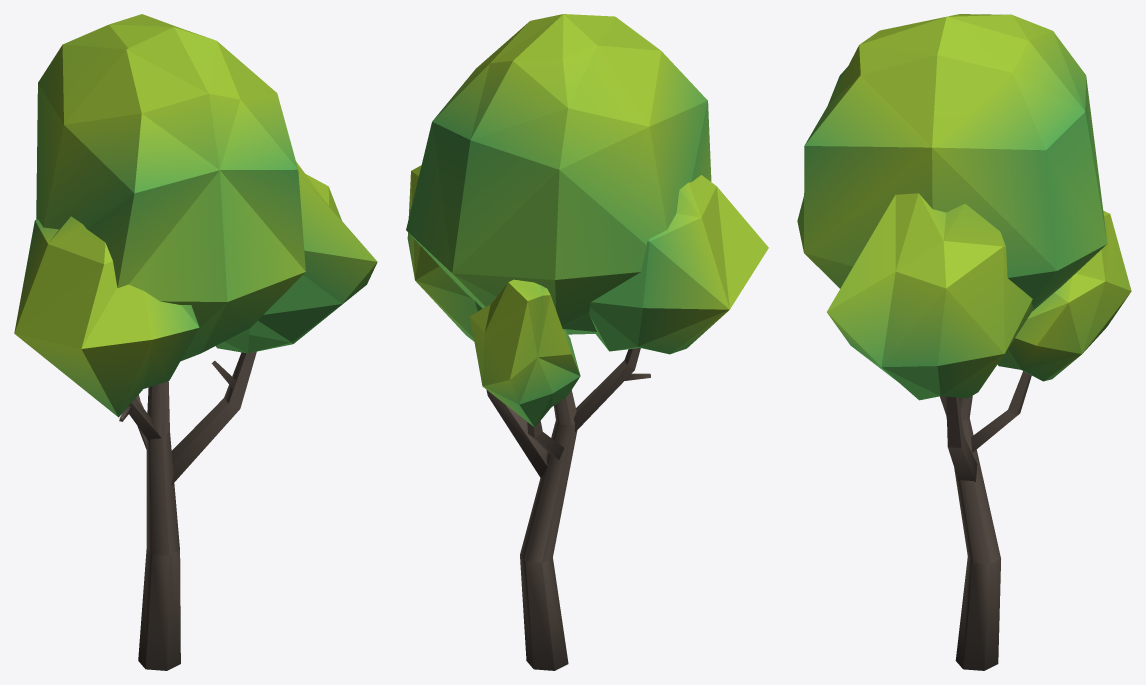
Rendered from tree_5.FBX.
3 views of the same model, side by side, from view 1: azimuth 30°, elevation 25°; view 2: azimuth 150°, elevation 25°; view 3: azimuth 270°, elevation 25° (orthographic).
Visible parts, largest first — view 1: tree_5; view 2: tree_5; view 3: tree_5.
Boxes of the visible parts, x1,y1,x2,y2 form: tree_5: [14, 14, 377, 670]; tree_5: [406, 14, 768, 670]; tree_5: [797, 14, 1131, 670].
Bounding box in the file's own units: 126 × 239 × 112.
